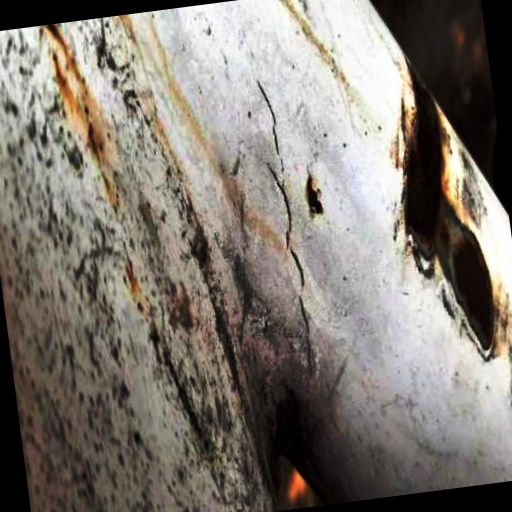crack: (240, 65, 349, 380)
